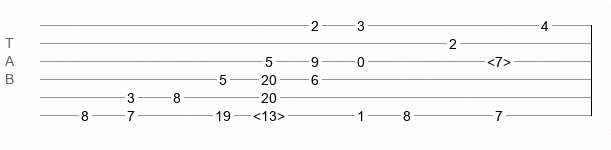0: (357, 54, 365, 64)
1: (357, 108, 365, 118)
19: (215, 108, 231, 118)
2: (311, 18, 319, 28), (449, 36, 457, 46)
20: (261, 90, 277, 100), (261, 72, 277, 82)
3: (127, 90, 135, 100), (357, 18, 365, 28)
4: (541, 18, 549, 28)
5: (219, 72, 227, 82), (265, 54, 273, 64)
6: (311, 72, 319, 82)
7: (127, 108, 135, 118), (495, 108, 503, 118)
8: (81, 108, 89, 118), (173, 90, 181, 100), (403, 108, 411, 118)
9: (311, 54, 319, 64)
harmonic: (253, 108, 285, 118), (487, 54, 511, 64)
